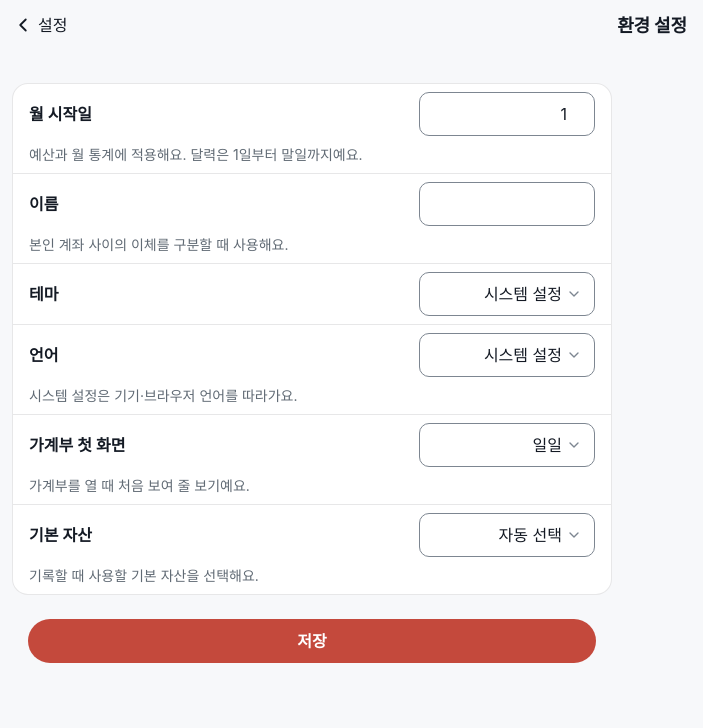
Test: Preferences › selects and persists a real default asset
Select "테스트통장" in the dropdown labelled "기본 자산" at (507, 535), box [419, 513, 595, 557]
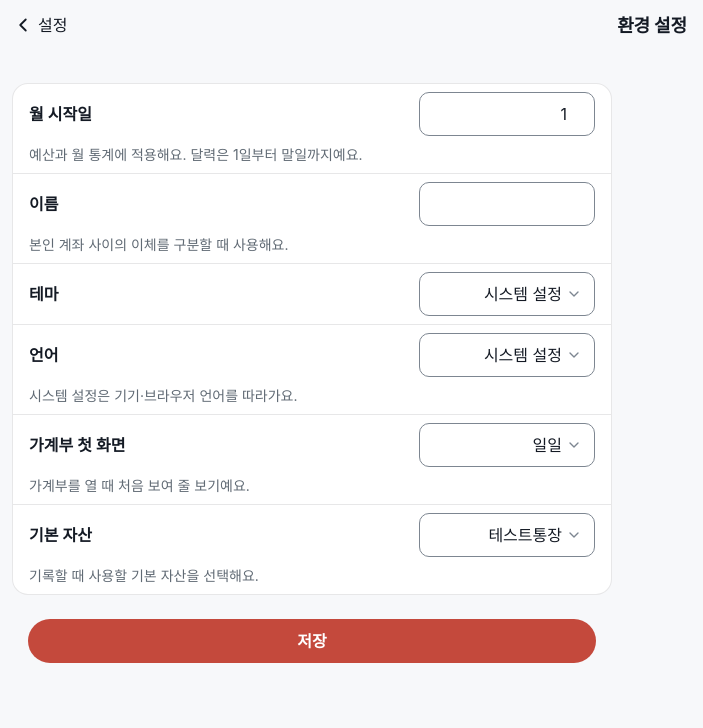
Replace the text in the number field labelled "월 시작일" with "25" at (507, 114), box [419, 92, 595, 136]
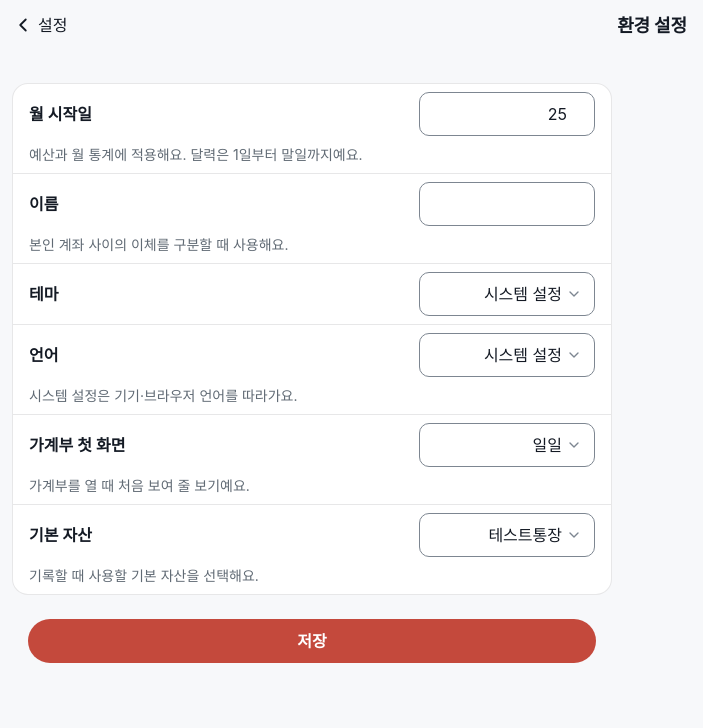
Click the button "저장" at (312, 641), box [28, 619, 596, 663]
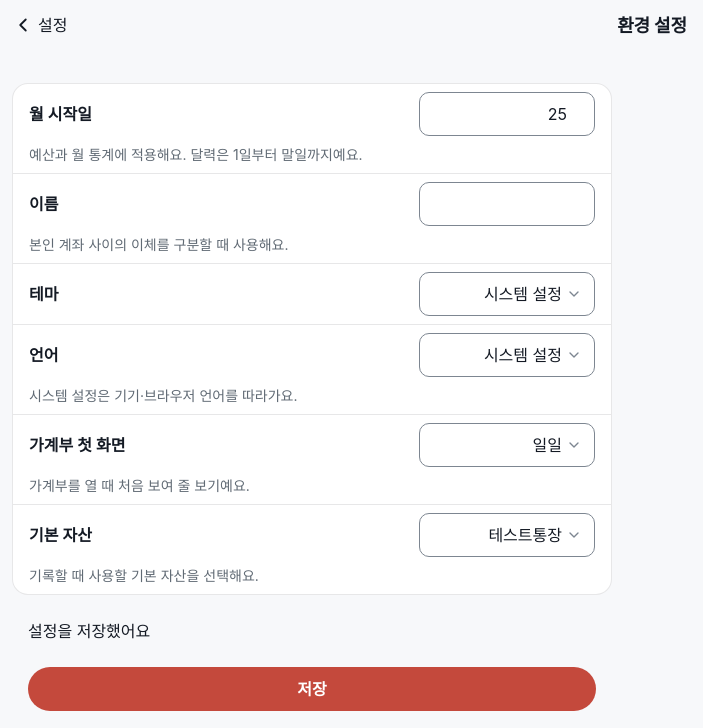
Expected: the text "설정을 저장했어요" is shown, [28, 621, 150, 641]
